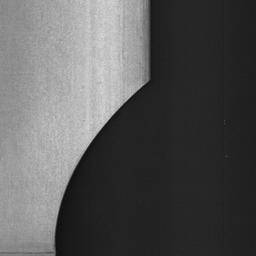Crescent gap: (54, 82, 148, 256)
